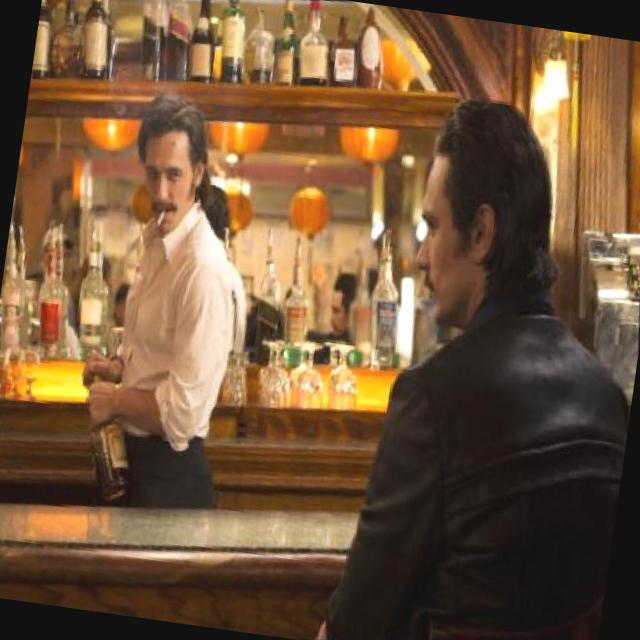cigarette: (153, 208, 170, 230)
